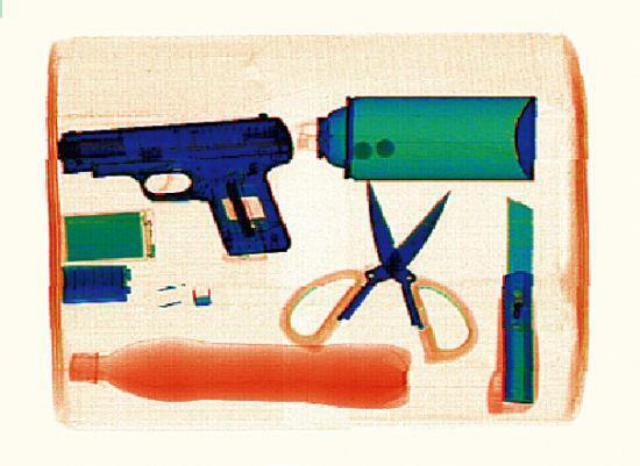Gun: (52, 109, 294, 256)
Knife: (274, 176, 480, 361)
